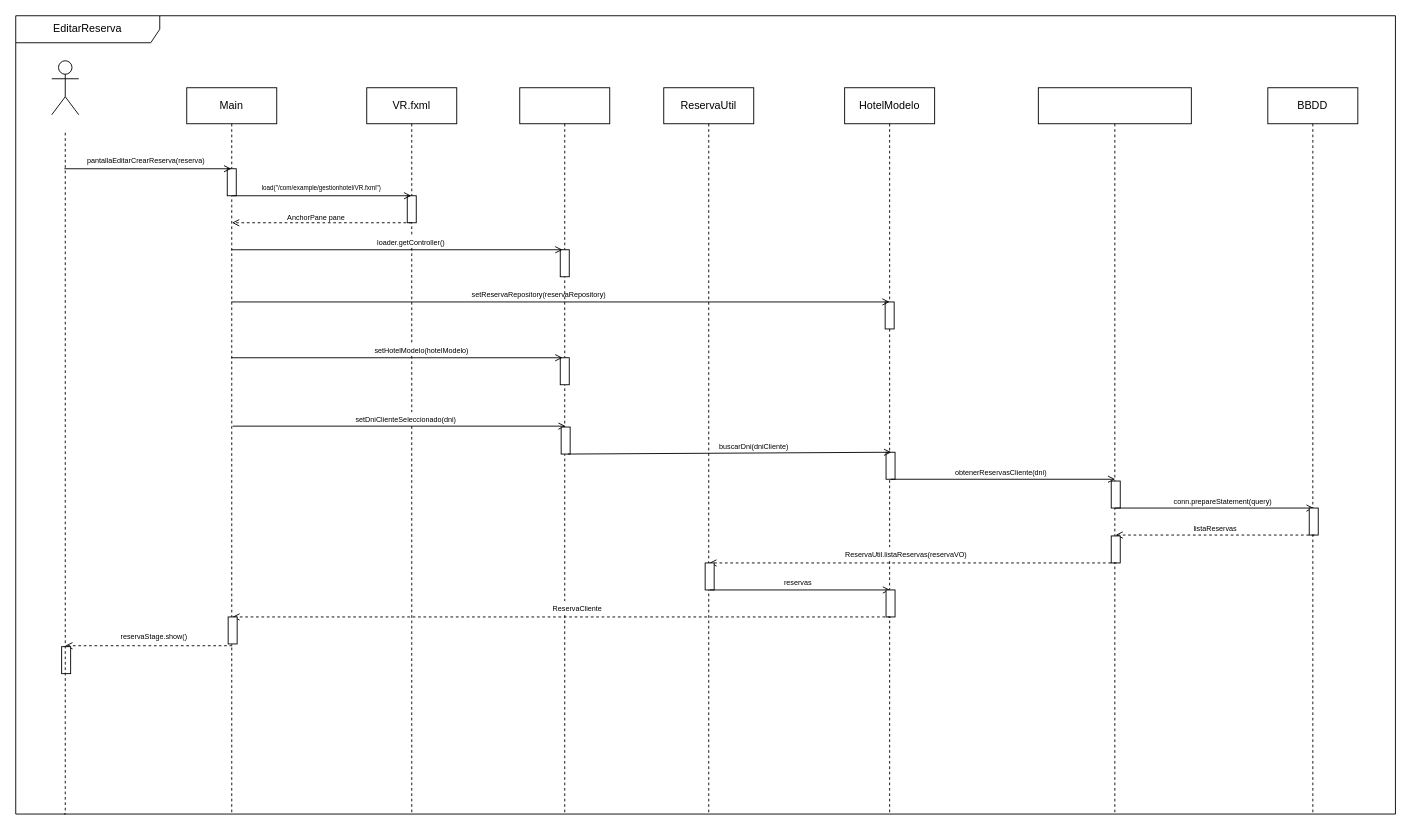
Some shapes in this 1411 by 831 pixel diagram are drawn without their labels. The box of each missing label's shape, as (x1, y1, x2, y2) in pixels:
ReservaRepositoryImpl: (1037, 87, 1191, 813)
Usuario: (51, 60, 79, 115)
VRController: (519, 87, 610, 814)
